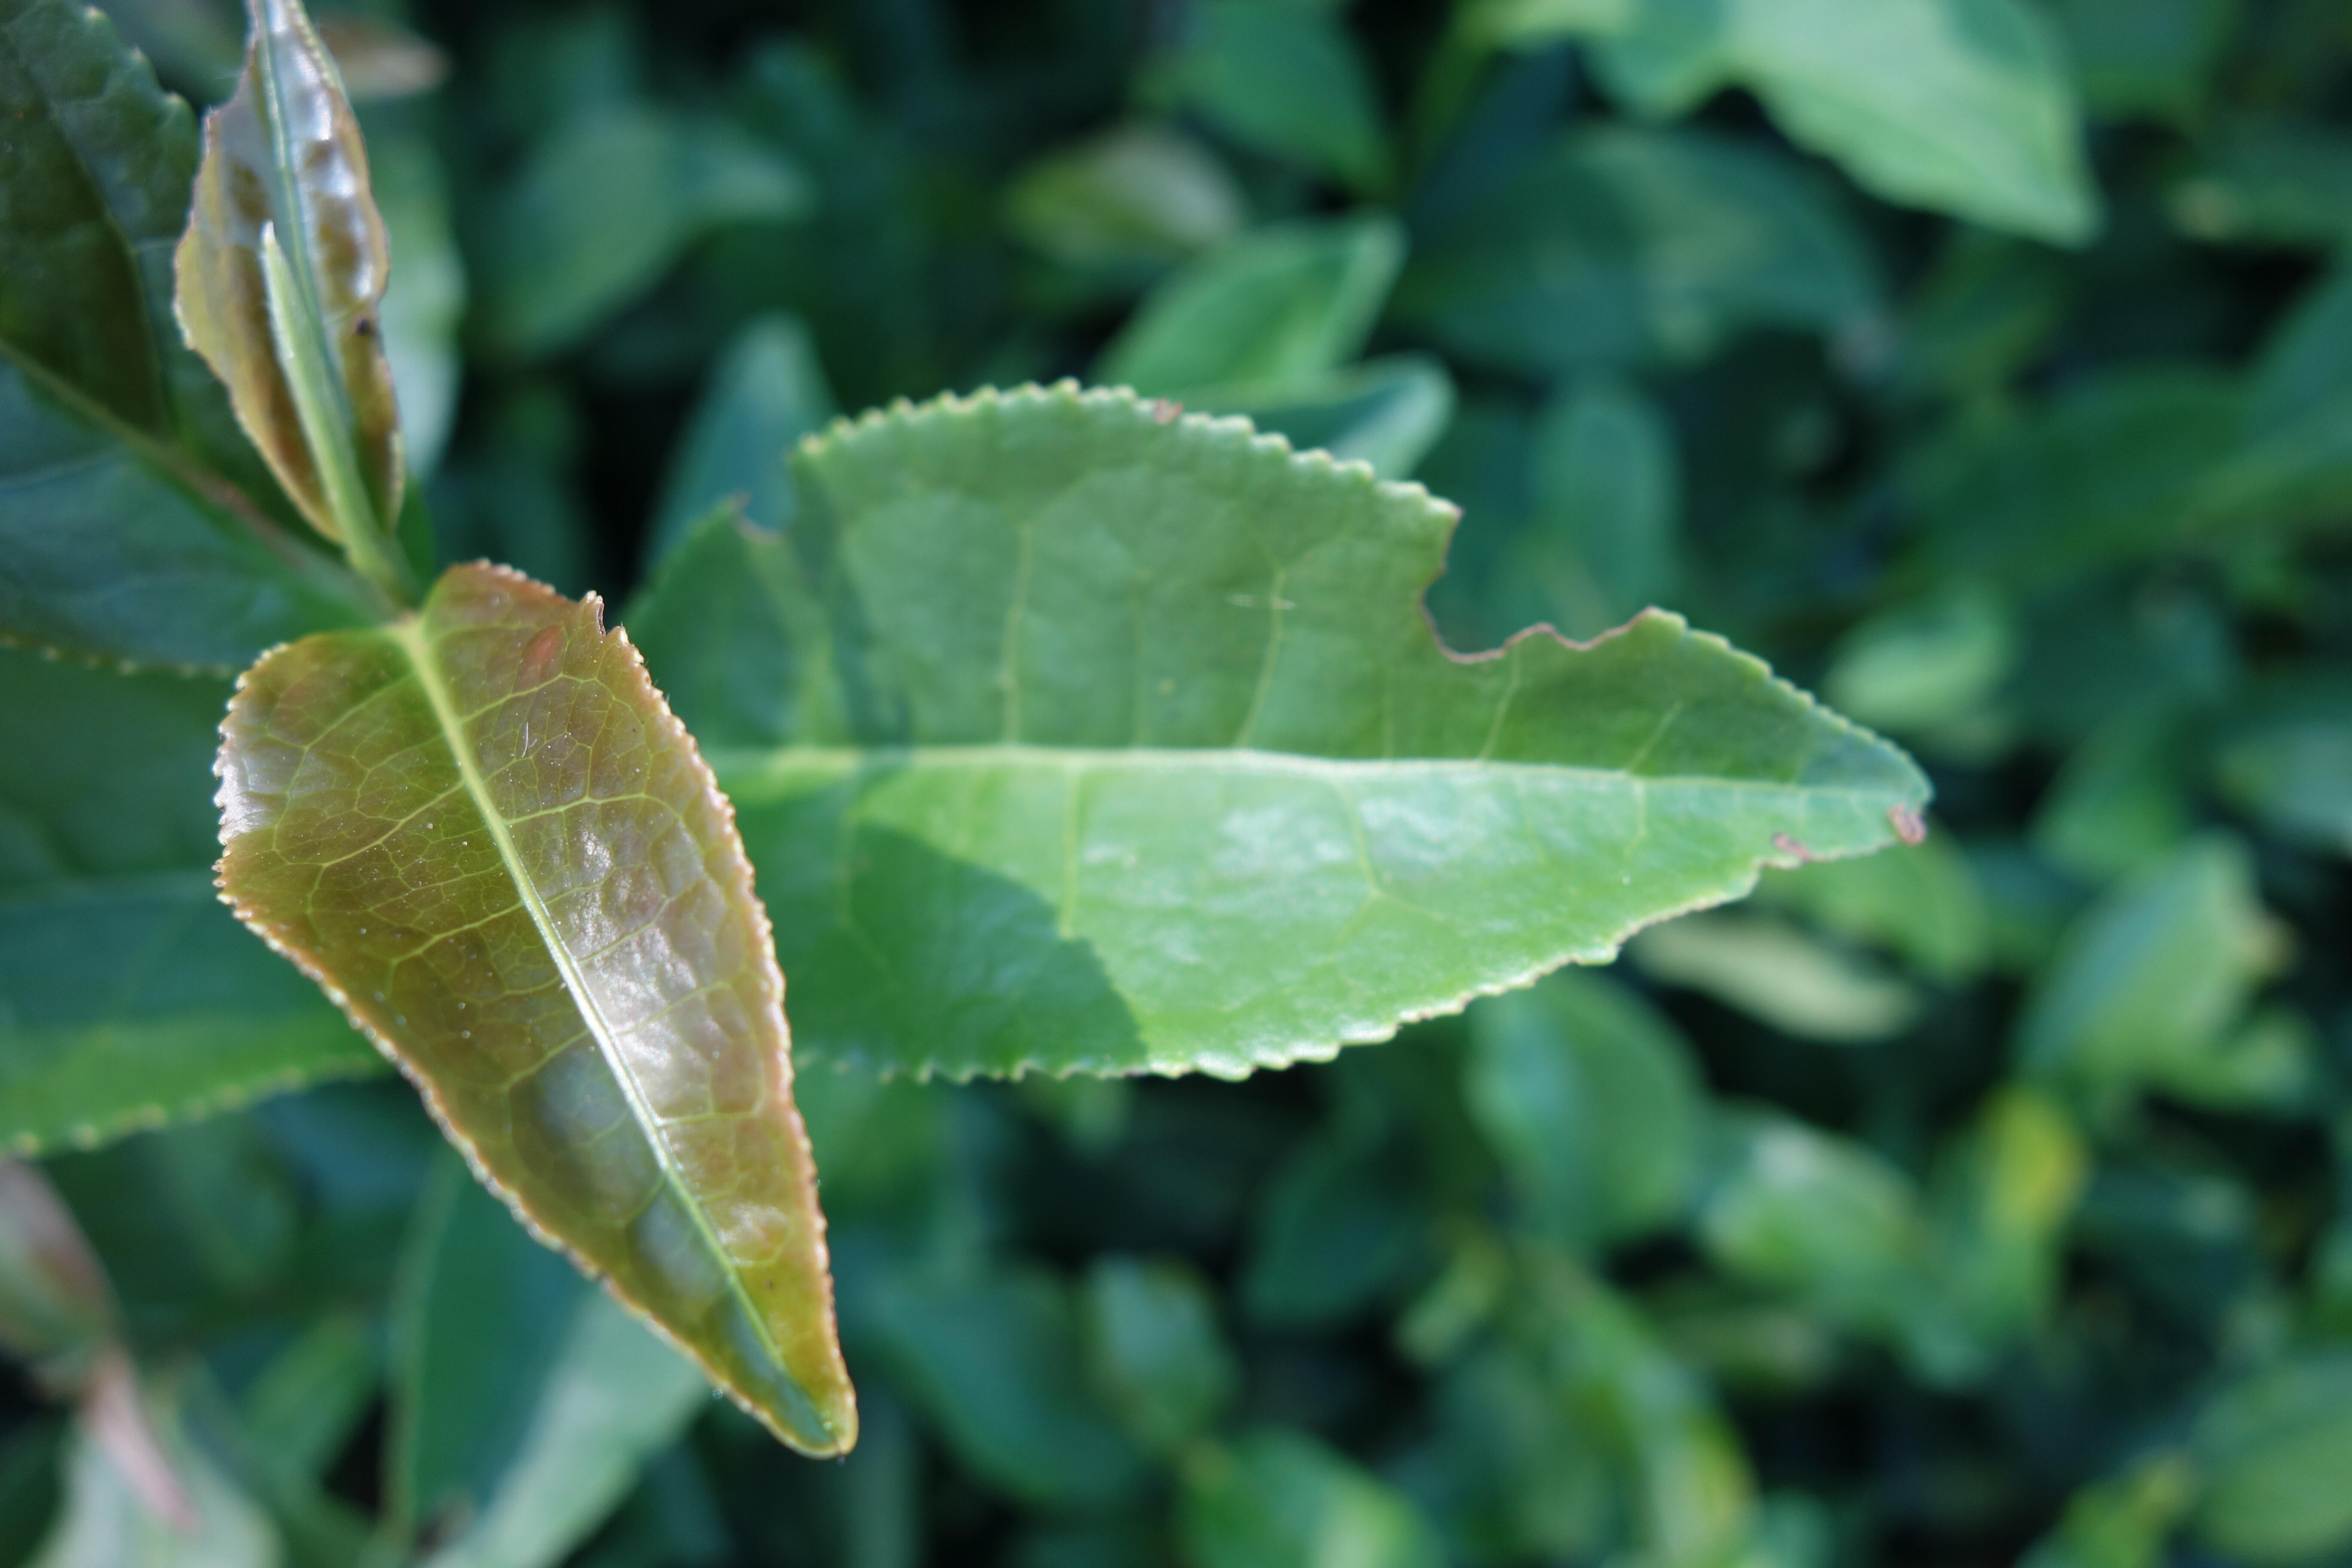chihuo_high: (616, 381, 1937, 1083)
tanju_low: (208, 556, 861, 1463), (170, 5, 409, 541)
